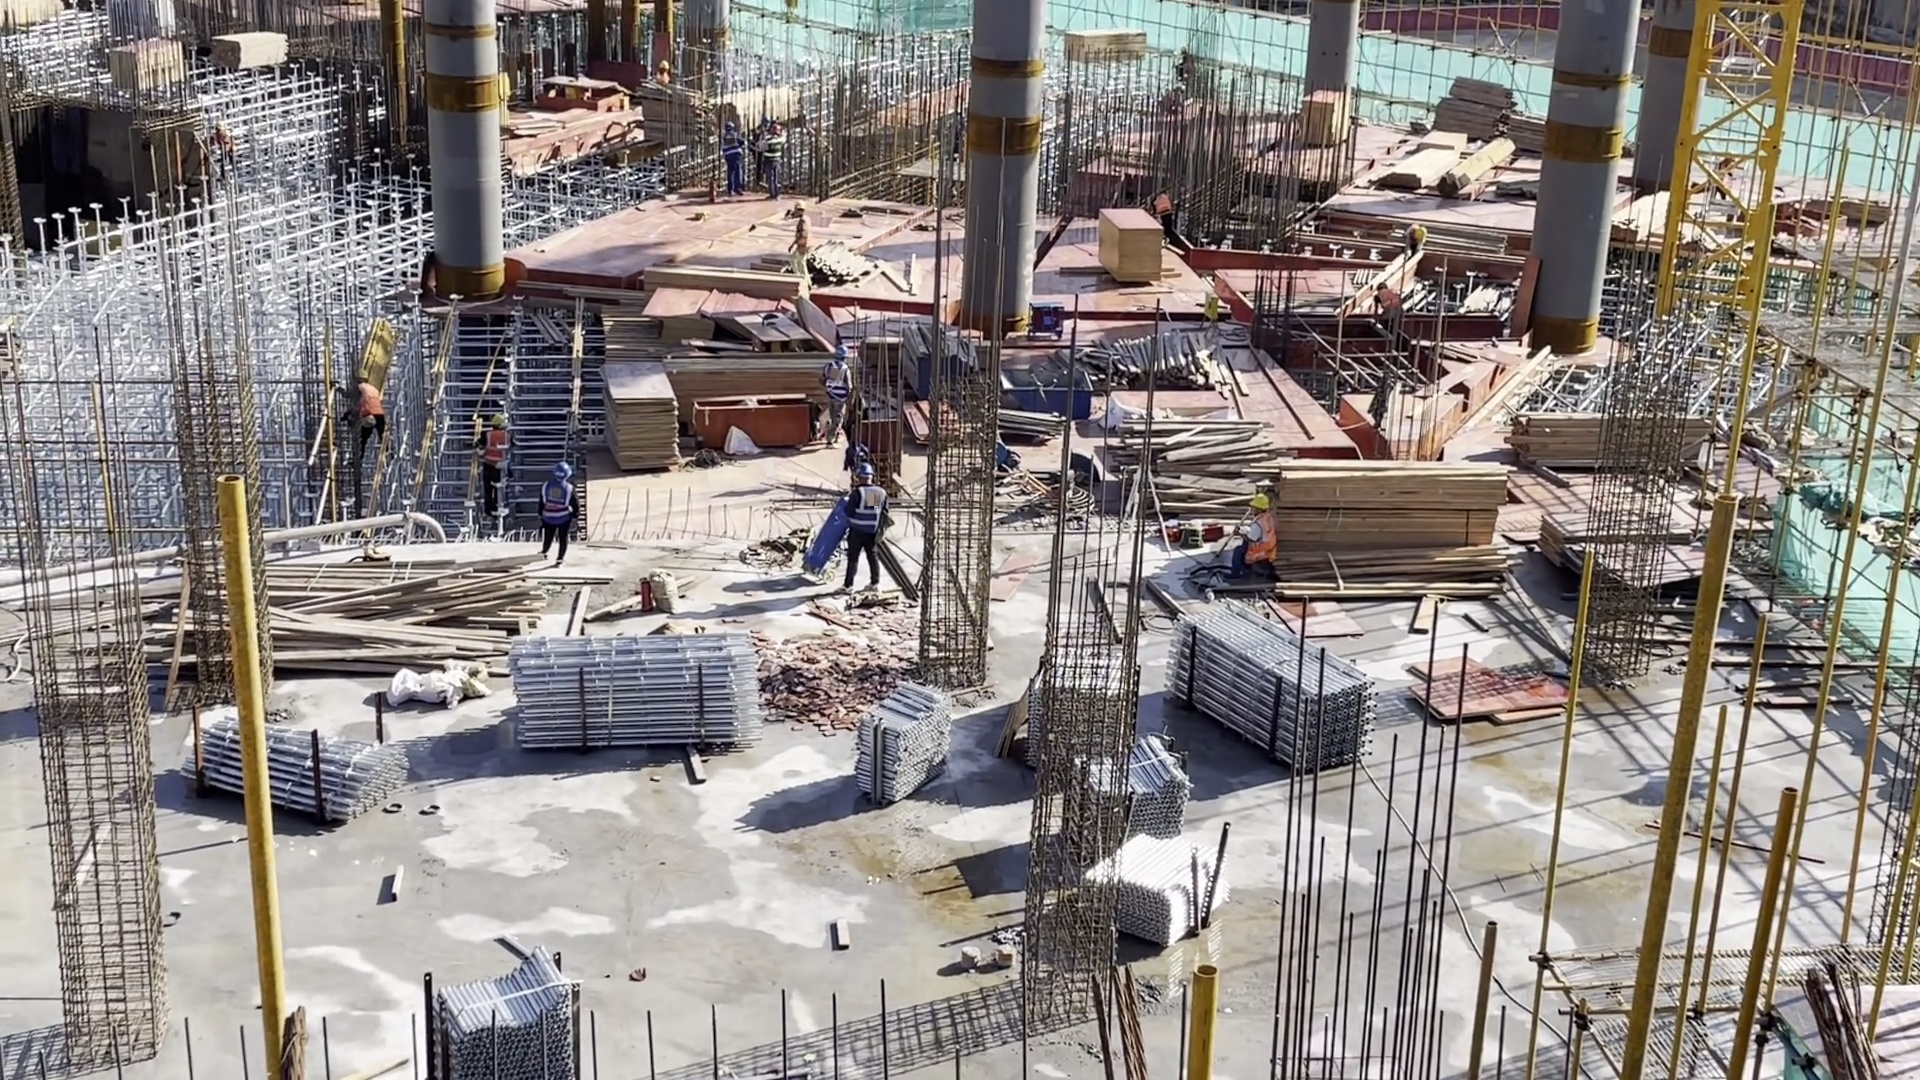board: (602, 364, 677, 466), (1101, 207, 1162, 289), (650, 284, 717, 346)
ebox: (1202, 295, 1220, 321)
helmet: (554, 462, 572, 480), (854, 463, 874, 476), (1250, 494, 1268, 508), (658, 61, 669, 68)
hopper: (1001, 368, 1092, 423)
person: (846, 461, 886, 591), (1231, 495, 1278, 584), (337, 374, 385, 453), (538, 464, 573, 561), (476, 416, 506, 509), (761, 126, 783, 204), (790, 201, 811, 274), (724, 122, 740, 201), (1156, 191, 1173, 243)
scaffold: (1177, 601, 1377, 776), (511, 635, 762, 749), (205, 722, 408, 823), (437, 963, 577, 1079), (1093, 834, 1215, 943), (1085, 746, 1188, 846), (862, 683, 945, 804)
vest: (848, 485, 883, 538), (1244, 516, 1278, 568), (540, 479, 569, 526), (354, 380, 383, 424), (792, 216, 815, 256), (485, 430, 505, 465), (725, 133, 742, 161), (766, 135, 781, 161), (1158, 189, 1170, 216)
wood: (1275, 462, 1511, 588), (648, 264, 809, 300), (1504, 414, 1605, 469), (1390, 142, 1461, 191)
